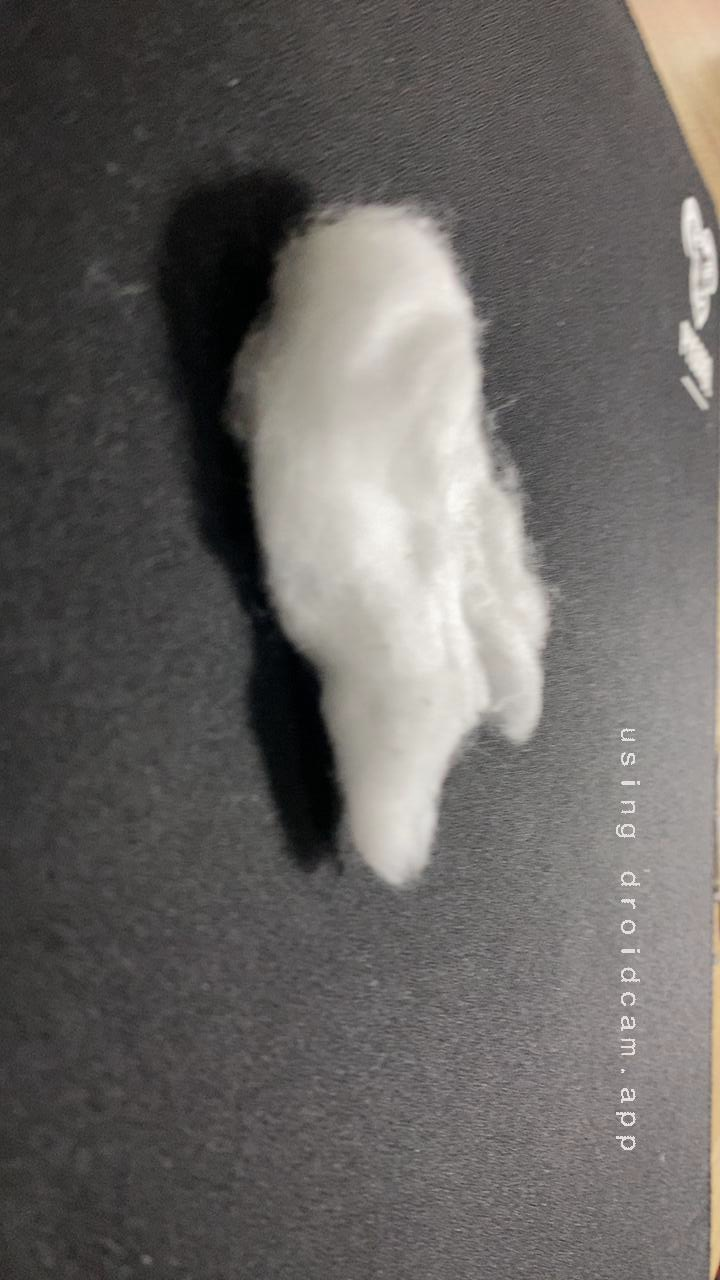cotton: (184, 200, 621, 933)
